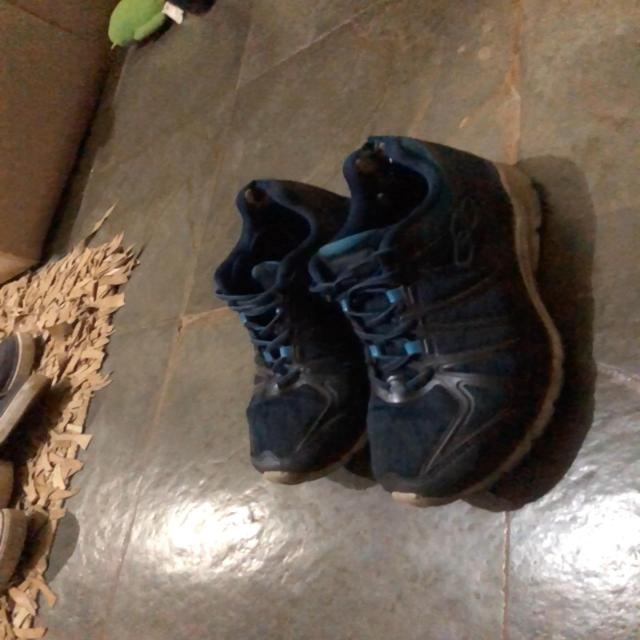shoe: (310, 136, 593, 507), (213, 180, 369, 480)
